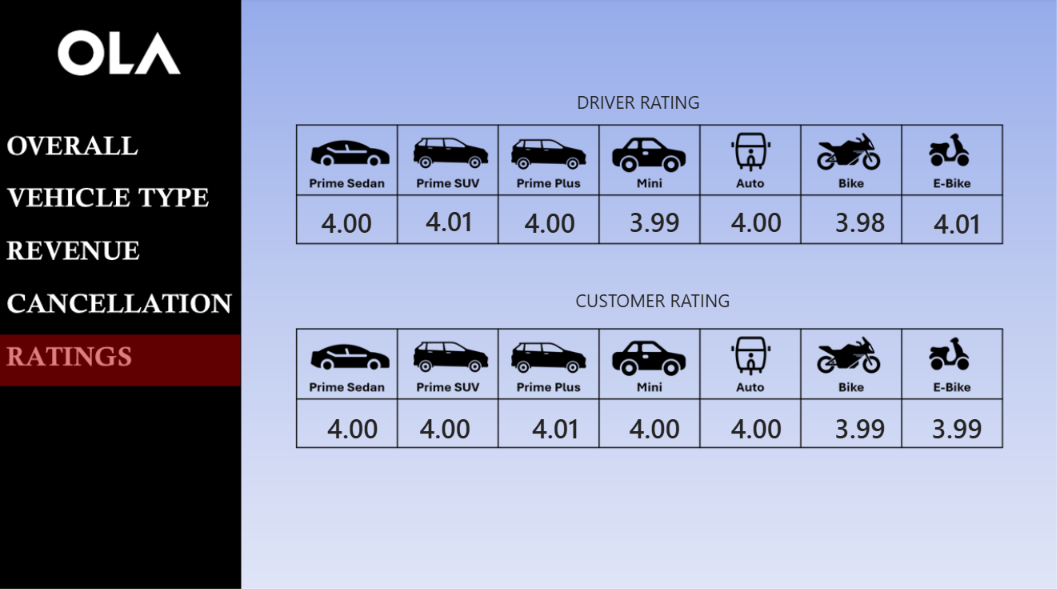

The dashboard page shown, as its layout file describes it:
{"tool":"powerbi","page":{"name":"ratings","canvas":[1280,720],"ordinal":4},"visuals":[{"type":"actionButton","box":[0,208.6,295,68.6],"z":0},{"type":"actionButton","box":[1.4,277.2,295,68.6],"z":1000},{"type":"actionButton","box":[0,345.8,295,68.6],"z":2000},{"type":"actionButton","box":[0,141.3,295,68.6],"z":3000},{"type":"cardVisual","fields":{"Data":["Avg(July.Driver_Ratings)"]},"box":[357.5,226.2,126.2,85],"z":4000},{"type":"cardVisual","fields":{"Data":["Avg(July.Driver_Ratings)"]},"box":[482.5,233.8,122.5,68.8],"z":5000},{"type":"cardVisual","fields":{"Data":["Avg(July.Driver_Ratings)"]},"box":[600,228.8,131.2,80],"z":6000},{"type":"cardVisual","fields":{"Data":["Avg(July.Driver_Ratings)"]},"box":[731.2,235,121.2,68.8],"z":7000},{"type":"cardVisual","fields":{"Data":["Avg(July.Driver_Ratings)"]},"box":[852.5,235,123.8,68.8],"z":8000},{"type":"cardVisual","fields":{"Data":["Avg(July.Driver_Ratings)"]},"box":[976.2,235,127.5,68.8],"z":9000},{"type":"cardVisual","fields":{"Data":["Avg(July.Driver_Ratings)"]},"box":[1095,238.8,122.5,63.8],"z":10000},{"type":"cardVisual","fields":{"Data":["Avg(July.Customer_Rating)"]},"box":[363.8,485,126.2,65],"z":11000},{"type":"cardVisual","fields":{"Data":["Avg(July.Customer_Rating)"]},"box":[477.5,478.8,122.5,77.5],"z":12000},{"type":"cardVisual","fields":{"Data":["Avg(July.Customer_Rating)"]},"box":[612.5,485,118.8,65],"z":13000},{"type":"cardVisual","fields":{"Data":["Avg(July.Customer_Rating)"]},"box":[731.2,485,121.2,65],"z":14000},{"type":"cardVisual","fields":{"Data":["Avg(July.Customer_Rating)"]},"box":[852.5,485,123.8,65],"z":15000},{"type":"cardVisual","fields":{"Data":["Avg(July.Customer_Rating)"]},"box":[976.2,485,127.5,65],"z":16000},{"type":"cardVisual","fields":{"Data":["Avg(July.Customer_Rating)"]},"box":[1095,485,122.5,65],"z":17000},{"type":"textbox","box":[613.3,71.7,318.3,81.7],"z":18000},{"type":"textbox","box":[691.7,345,258.3,150],"z":19000}]}

Visuals, with their boxes in screenshot pixels (x1, y1, x2, y2), scaled from the page's 1280x720 canvas onto the 1057x589 screenshot:
actionButton: region(0, 171, 244, 227)
actionButton: region(1, 227, 245, 283)
actionButton: region(0, 283, 244, 339)
actionButton: region(0, 116, 244, 172)
cardVisual - Avg(July.Driver_Ratings): region(295, 185, 399, 255)
cardVisual - Avg(July.Driver_Ratings): region(398, 191, 500, 248)
cardVisual - Avg(July.Driver_Ratings): region(495, 187, 604, 253)
cardVisual - Avg(July.Driver_Ratings): region(604, 192, 704, 249)
cardVisual - Avg(July.Driver_Ratings): region(704, 192, 806, 249)
cardVisual - Avg(July.Driver_Ratings): region(806, 192, 911, 249)
cardVisual - Avg(July.Driver_Ratings): region(904, 195, 1005, 248)
cardVisual - Avg(July.Customer_Rating): region(300, 397, 405, 450)
cardVisual - Avg(July.Customer_Rating): region(394, 392, 495, 455)
cardVisual - Avg(July.Customer_Rating): region(506, 397, 604, 450)
cardVisual - Avg(July.Customer_Rating): region(604, 397, 704, 450)
cardVisual - Avg(July.Customer_Rating): region(704, 397, 806, 450)
cardVisual - Avg(July.Customer_Rating): region(806, 397, 911, 450)
cardVisual - Avg(July.Customer_Rating): region(904, 397, 1005, 450)
textbox: region(506, 59, 769, 125)
textbox: region(571, 282, 784, 405)
